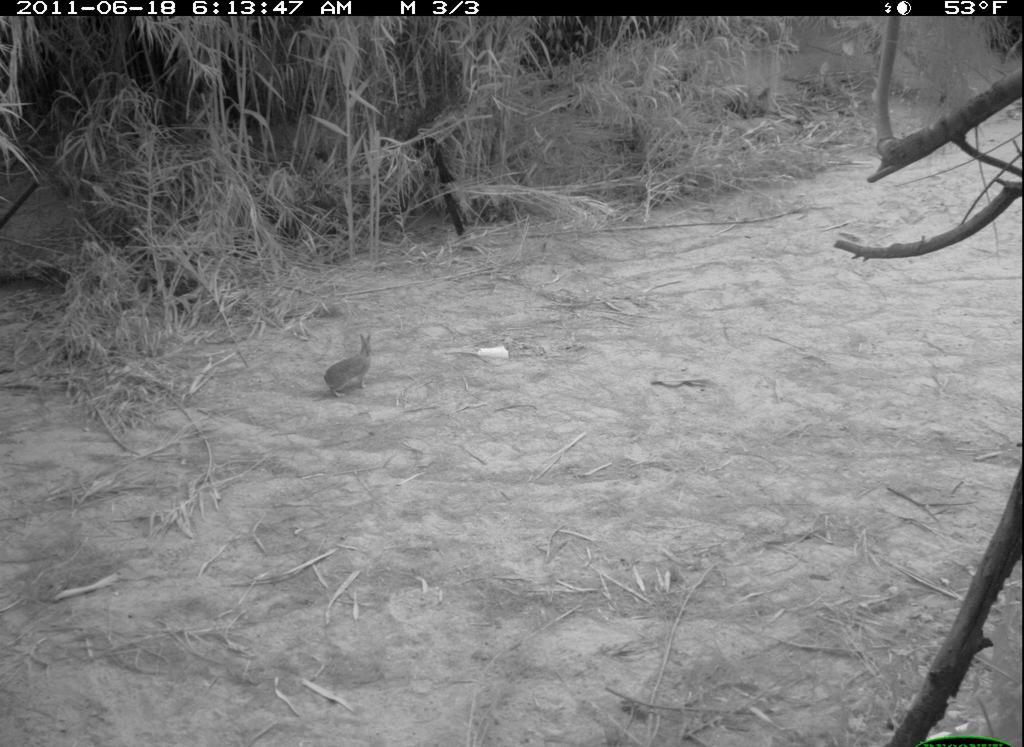rabbit: (319, 328, 383, 406)
